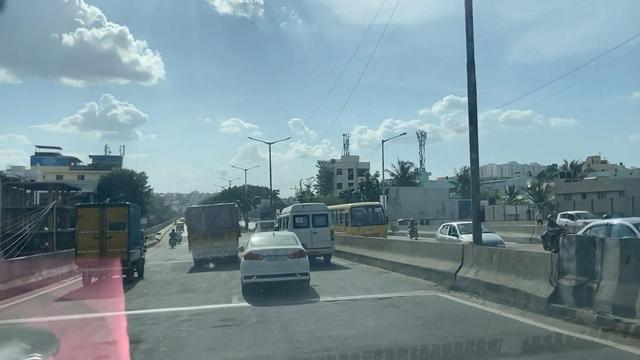HMV: (81, 207, 141, 293), (188, 209, 240, 265)
LMV: (244, 231, 310, 295)
UnsurfacedRoad: (16, 294, 226, 323), (330, 280, 420, 306)
